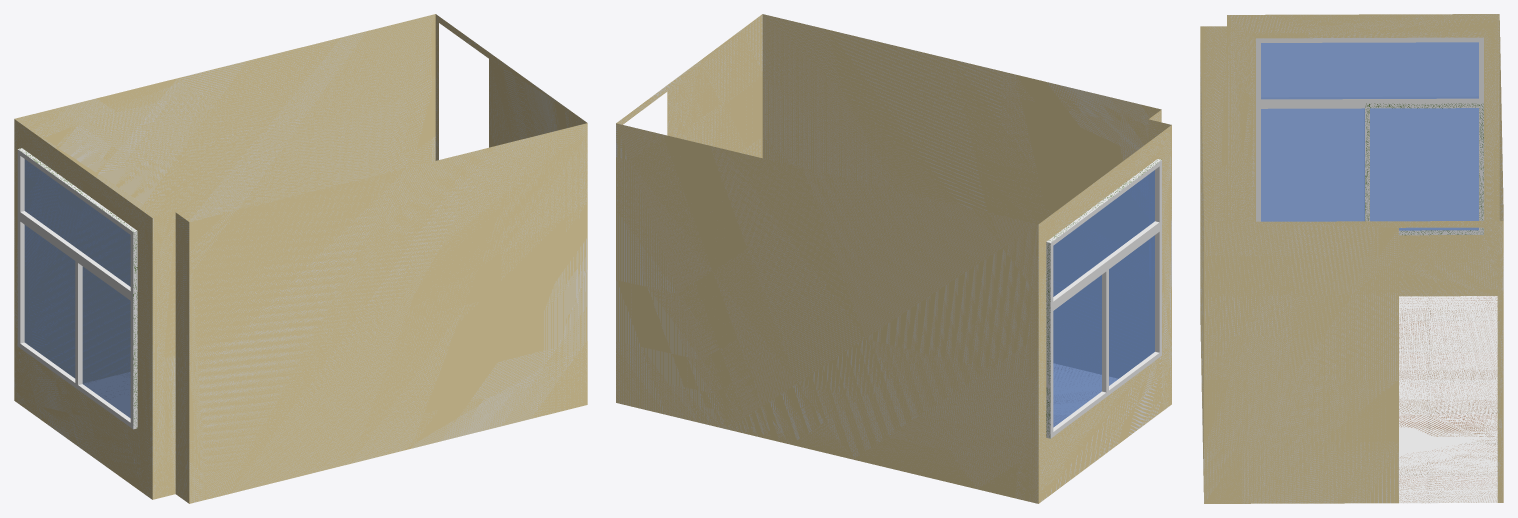
File: DES033.obj
The picture shows the model from 3 angles, left to right: view 1: azimuth 30°, elevation 25°; view 2: azimuth 150°, elevation 25°; view 3: azimuth 270°, elevation 25°; orthographic projection.
Parts seen in each view (by area): view 1: Mesh7 Group1 Model, Mesh1 ventana1_2_1 Group1 Model; view 2: Mesh7 Group1 Model, Mesh1 ventana1_2_1 Group1 Model; view 3: Mesh7 Group1 Model, Mesh1 ventana1_2_1 Group1 Model.
Part boxes in pixels (box(x1,y1,x2,y2)): Mesh7 Group1 Model: box(14, 14, 587, 503); Mesh1 ventana1_2_1 Group1 Model: box(17, 148, 137, 429); Mesh7 Group1 Model: box(616, 14, 1171, 503); Mesh1 ventana1_2_1 Group1 Model: box(1046, 159, 1161, 438); Mesh7 Group1 Model: box(1200, 14, 1503, 503); Mesh1 ventana1_2_1 Group1 Model: box(1256, 37, 1483, 235).
Size of the model in its own units: 4.79 by 3 by 2.93.
Materials: 7 (1 with a texture image).
